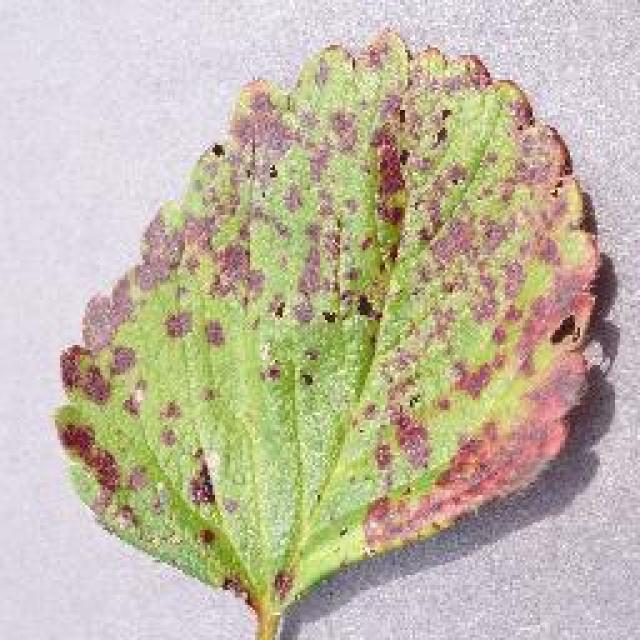Strawberry leaf scorch: (55, 53, 612, 530)
